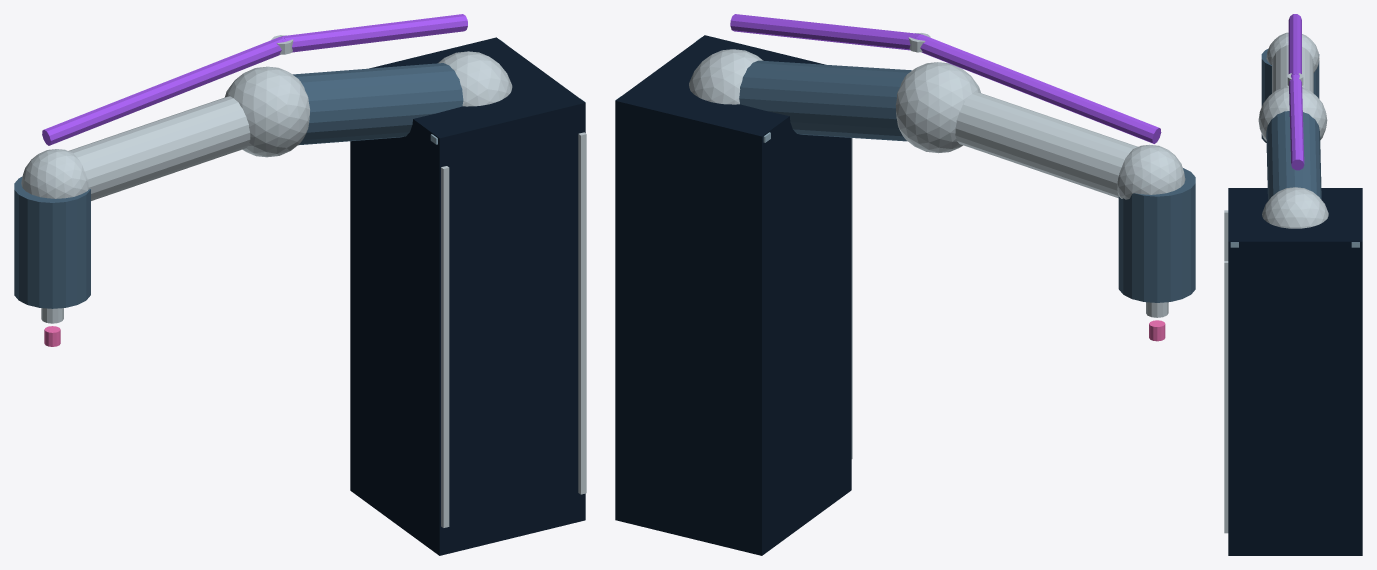
Rendered from 07_L74_PrecisionPhotoresistNozzle.fbx.
The picture shows the model from 3 angles, left to right: view 1: azimuth 30°, elevation 25°; view 2: azimuth 150°, elevation 25°; view 3: azimuth 270°, elevation 25°; orthographic projection. The views are drawn at different scales.
Parts seen in each view (by area): view 1: PrecisionPhotoresistNozzle, PrecisionPhotoresistNozzle_Part_0007, PrecisionPhotoresistNozzle_Part_0010, PrecisionPhotoresistNozzle_Part_0013, PrecisionPhotoresistNozzle_Part_0009, PrecisionPhotoresistNozzle_Part_0012, PrecisionPhotoresistNozzle_Part_0008; view 2: PrecisionPhotoresistNozzle, PrecisionPhotoresistNozzle_Part_0007, PrecisionPhotoresistNozzle_Part_0010, PrecisionPhotoresistNozzle_Part_0013, PrecisionPhotoresistNozzle_Part_0009, PrecisionPhotoresistNozzle_Part_0012, PrecisionPhotoresistNozzle_Part_0008; view 3: PrecisionPhotoresistNozzle, PrecisionPhotoresistNozzle_Part_0007, PrecisionPhotoresistNozzle_Part_0008, PrecisionPhotoresistNozzle_Part_0009, PrecisionPhotoresistNozzle_Part_0010, PrecisionPhotoresistNozzle_Part_0013, PrecisionPhotoresistNozzle_Part_0012.
Boxes of the visible parts, left/top/right/bottom form: PrecisionPhotoresistNozzle: left=42, top=14, right=586, bottom=555; PrecisionPhotoresistNozzle_Part_0007: left=292, top=63, right=463, bottom=145; PrecisionPhotoresistNozzle_Part_0010: left=69, top=96, right=250, bottom=200; PrecisionPhotoresistNozzle_Part_0013: left=14, top=176, right=90, bottom=308; PrecisionPhotoresistNozzle_Part_0009: left=225, top=66, right=309, bottom=157; PrecisionPhotoresistNozzle_Part_0012: left=21, top=149, right=88, bottom=198; PrecisionPhotoresistNozzle_Part_0008: left=438, top=51, right=512, bottom=106; PrecisionPhotoresistNozzle: left=615, top=14, right=1161, bottom=555; PrecisionPhotoresistNozzle_Part_0007: left=739, top=60, right=911, bottom=141; PrecisionPhotoresistNozzle_Part_0010: left=955, top=92, right=1137, bottom=198; PrecisionPhotoresistNozzle_Part_0013: left=1118, top=168, right=1195, bottom=302; PrecisionPhotoresistNozzle_Part_0009: left=895, top=62, right=980, bottom=153; PrecisionPhotoresistNozzle_Part_0012: left=1117, top=144, right=1185, bottom=199; PrecisionPhotoresistNozzle_Part_0008: left=689, top=49, right=763, bottom=104; PrecisionPhotoresistNozzle: left=1224, top=14, right=1362, bottom=555; PrecisionPhotoresistNozzle_Part_0007: left=1266, top=111, right=1321, bottom=200; PrecisionPhotoresistNozzle_Part_0008: left=1262, top=187, right=1328, bottom=228; PrecisionPhotoresistNozzle_Part_0009: left=1258, top=86, right=1327, bottom=141; PrecisionPhotoresistNozzle_Part_0010: left=1272, top=45, right=1313, bottom=93; PrecisionPhotoresistNozzle_Part_0013: left=1261, top=48, right=1319, bottom=142; PrecisionPhotoresistNozzle_Part_0012: left=1266, top=32, right=1319, bottom=72.
Bounding box in the file's own units: 188 × 175 × 56.53.
